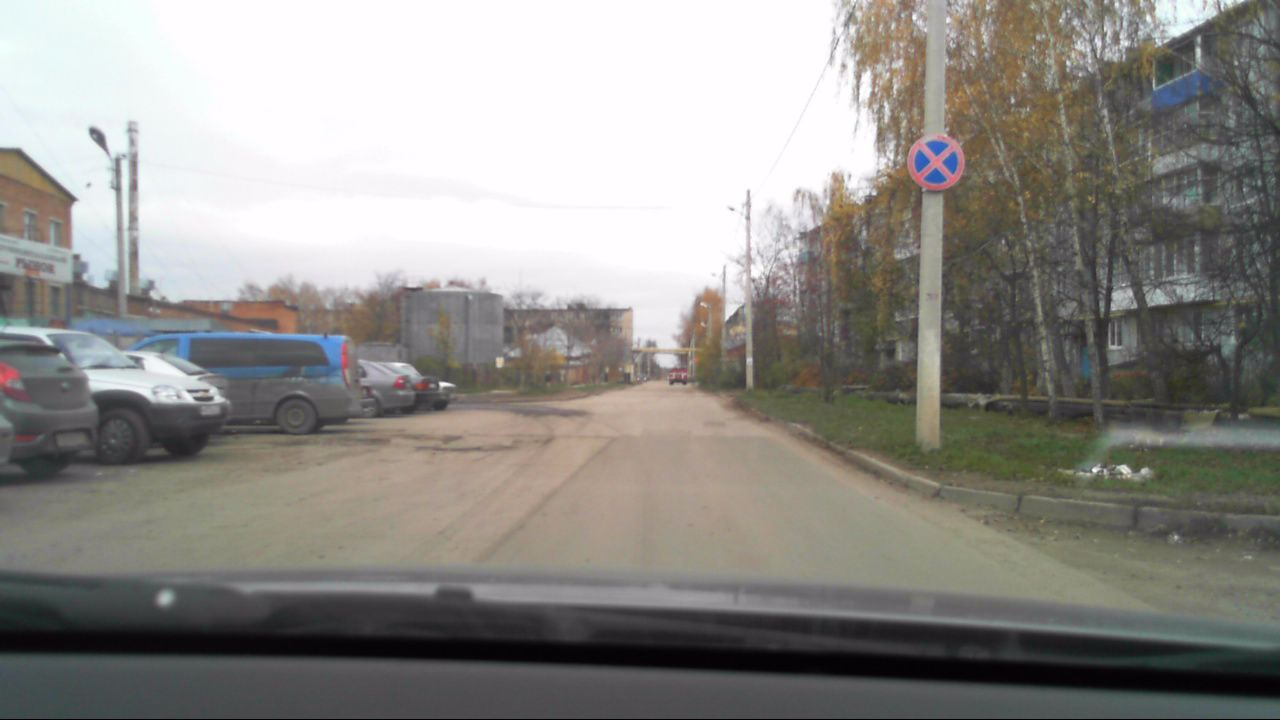No Parking: (905, 134, 966, 193)
